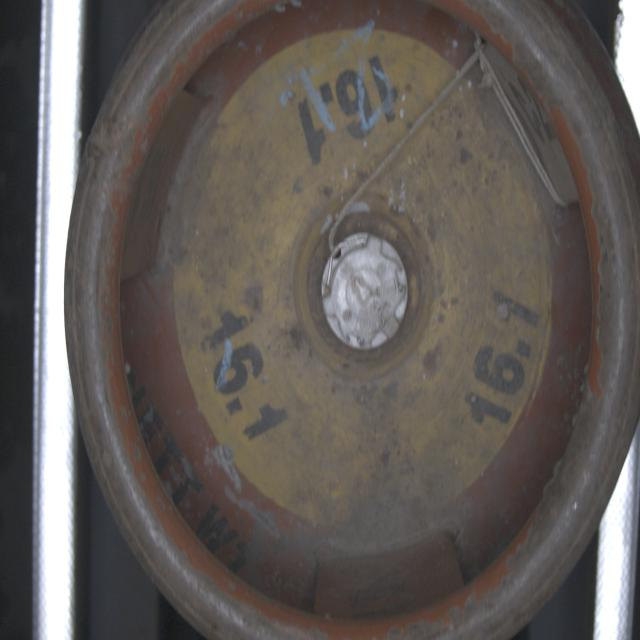Cap: (320, 230, 413, 356)
